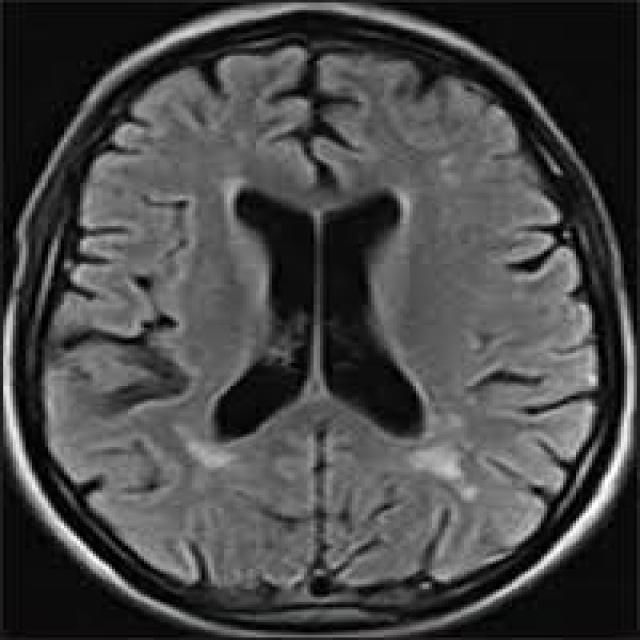notumor: (3, 3, 634, 635)
